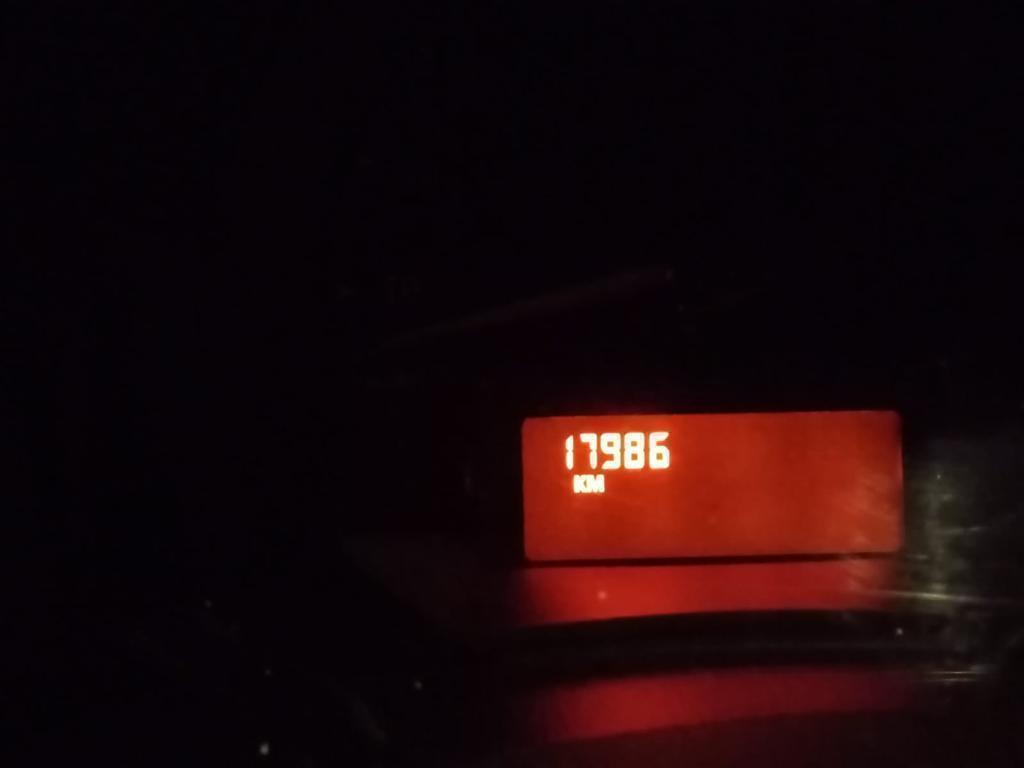1: (563, 433, 574, 471)
6: (646, 430, 671, 470)
7: (578, 430, 598, 470)
8: (623, 431, 645, 470)
9: (599, 430, 621, 470)
X: (587, 473, 605, 494), (571, 473, 587, 494)
odometer: (513, 401, 915, 567)
